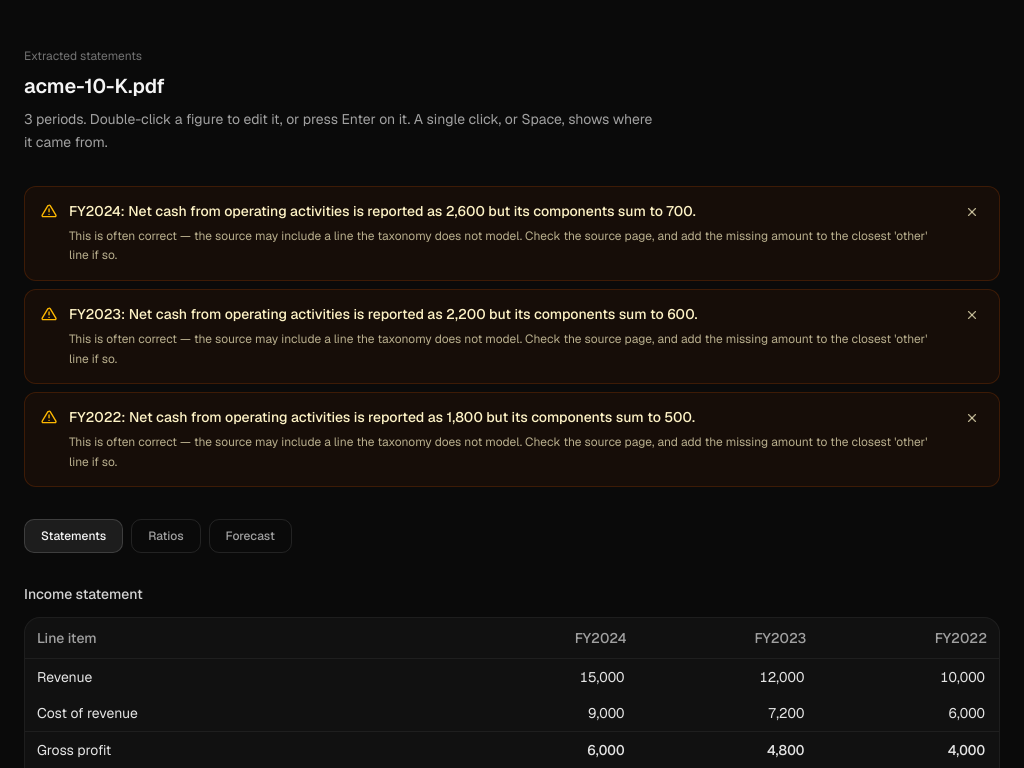
Test case: the forecast tab › appears as a third tab and renders the forecast statements when opened
Click the tab "Forecast": {"x": 250, "y": 536} [209,519,292,553]
(page scrolled)
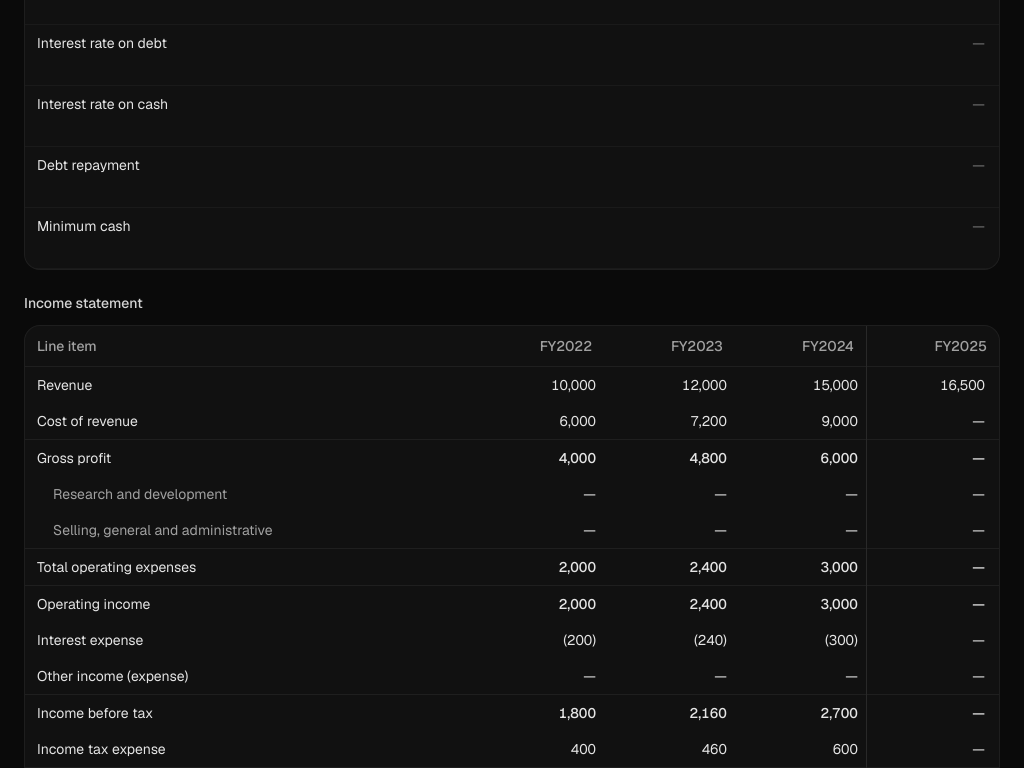
Result: the button "16,500" is shown at [934,373,991,397]
